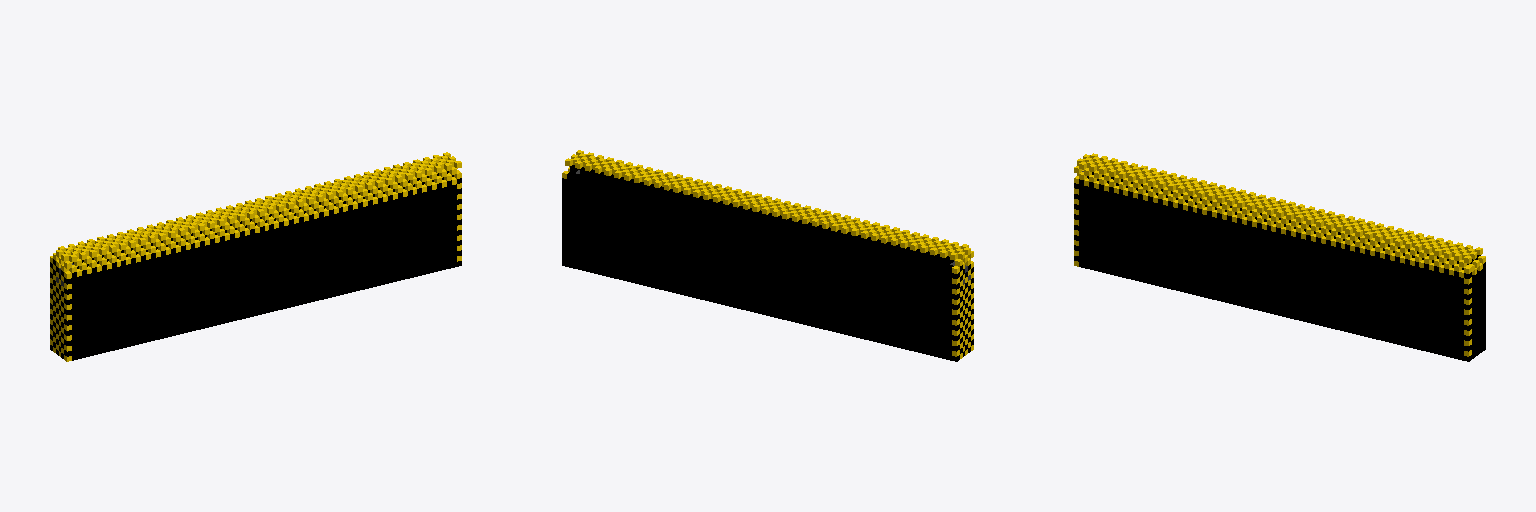
The picture shows the model from 3 angles: view 1: azimuth 30°, elevation 25°; view 2: azimuth 150°, elevation 25°; view 3: azimuth 330°, elevation 25°; orthographic projection.
Visible parts, largest first — view 1: object 1; view 2: object 1; view 3: object 1.
Part boxes in pixels (bbox=[...]): object 1: bbox=[50, 152, 461, 361]; object 1: bbox=[562, 150, 973, 361]; object 1: bbox=[1074, 153, 1485, 361].
Bounding box in the file's own units: 16 × 4 × 1.2.
Materials: 1 (1 with a texture image).